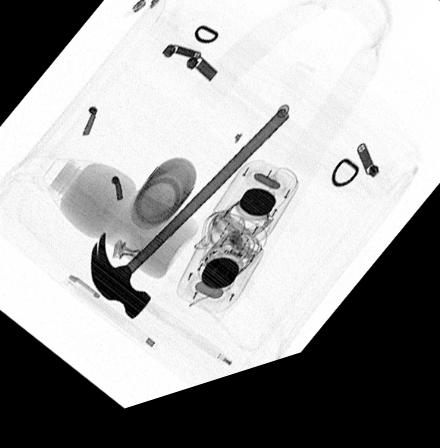Hammer: (89, 125, 290, 327)
